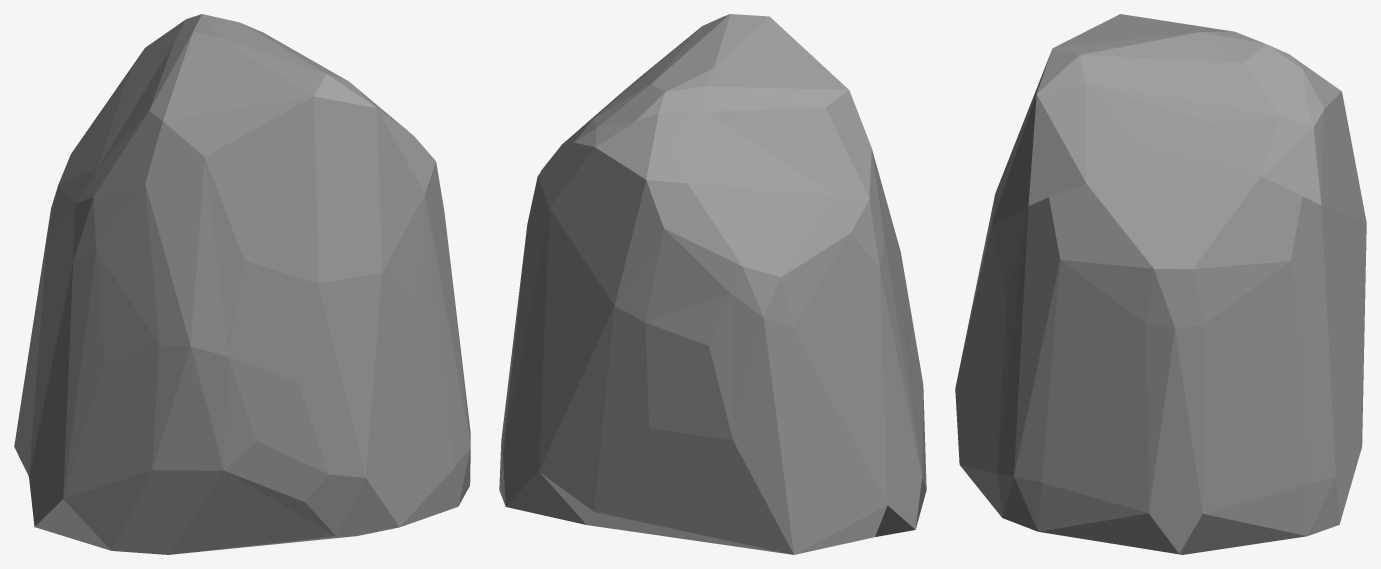
File: Rock_031.glb
3 renders of one model, left to right at view 1: azimuth 30°, elevation 25°; view 2: azimuth 150°, elevation 25°; view 3: azimuth 270°, elevation 25°, orthographic. The views are drawn at different scales.
Visible parts, largest first — view 1: Rock_031; view 2: Rock_031; view 3: Rock_031.
Boxes of the visible parts, x1=… form: Rock_031: x1=14, y1=14, x2=470, y2=554; Rock_031: x1=499, y1=14, x2=926, y2=554; Rock_031: x1=955, y1=14, x2=1366, y2=554.
Size of the model in its own units: 2.14 by 2.2 by 1.89.
1 material, 1 textured.
